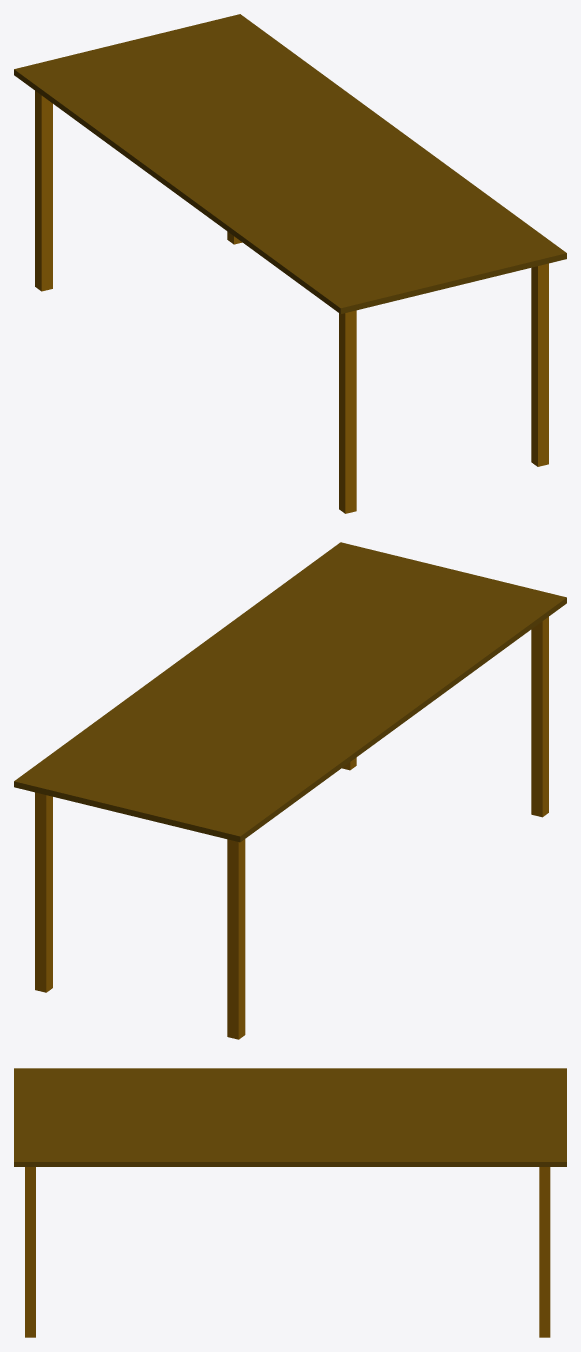
File: table01.obj
3 views of the same model, one above another, from view 1: azimuth 30°, elevation 25°; view 2: azimuth 150°, elevation 25°; view 3: azimuth 270°, elevation 25° (orthographic). The views are drawn at different scales.
Parts seen in each view (by area): view 1: table01; view 2: table01; view 3: table01.
Part boxes in pixels (x1,y1,x2,y2): table01: [14, 14, 566, 513]; table01: [14, 542, 566, 1039]; table01: [14, 1068, 566, 1337].
Size of the model in its own units: 40 by 36 by 100.
1 material, 1 textured.
